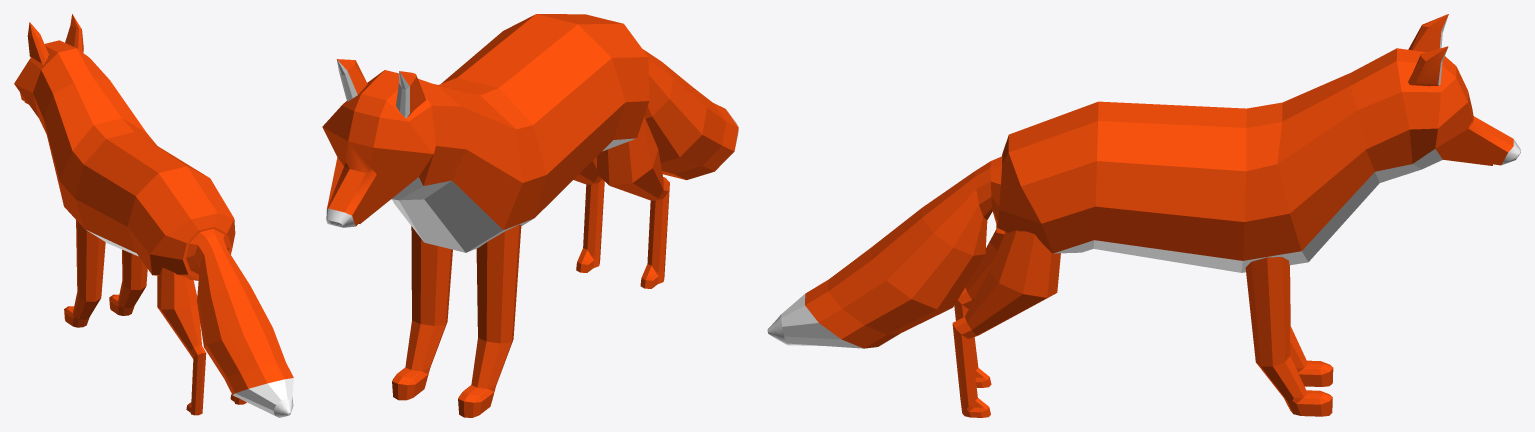
Rendered from fox.obj.
3 renders of one model, left to right at view 1: azimuth 30°, elevation 25°; view 2: azimuth 150°, elevation 25°; view 3: azimuth 270°, elevation 25°, orthographic. The views are drawn at different scales.
Parts seen in each view (by area): view 1: Fox_Cylinder.001; view 2: Fox_Cylinder.001; view 3: Fox_Cylinder.001.
Boxes of the visible parts, x1=… form: Fox_Cylinder.001: x1=14, y1=14, x2=293, y2=417; Fox_Cylinder.001: x1=322, y1=14, x2=738, y2=417; Fox_Cylinder.001: x1=767, y1=14, x2=1520, y2=417.
Bounding box in the file's own units: 1.74 × 4.77 × 8.73.
